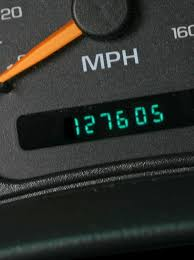Digital_Meter: (49, 88, 171, 146)
